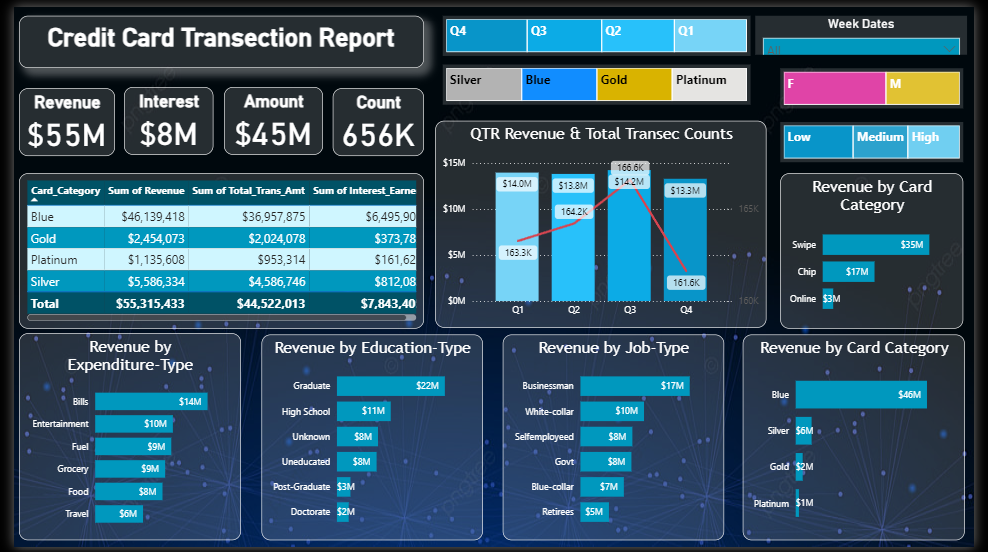

The page's visual inventory and layout, read from the dashboard file:
{"tool":"powerbi","page":{"name":"CC  Transection Report","canvas":[1280,720],"ordinal":0},"visuals":[{"type":"textbox","box":[7.4,12.3,539.9,69.9],"z":0},{"type":"lineStackedColumnComboChart","title":"QTR Revenue & Total Transec Counts","fields":{"Category":["credit_card (3).Qtr"],"Y":["Sum(credit_card (3).Revenue)"],"Y2":["Sum(credit_card.Total_Trans_Count)"]},"box":[561.2,152.3,441.9,275.8],"z":1000},{"type":"clusteredBarChart","title":" Revenue by Expenditure-Type","fields":{"Y":["Sum(credit_card (3).Revenue)"],"Category":["credit_card (3).Exp Type"]},"box":[7.1,435.7,295.7,275.7],"z":2000},{"type":"clusteredBarChart","title":" Revenue by Education-Type","fields":{"Y":["Sum(credit_card (3).Revenue)"],"Category":["customer.Education_Level"]},"box":[329.3,436.4,295,274.4],"z":3000},{"type":"clusteredBarChart","title":" Revenue by Job-Type","fields":{"Y":["Sum(credit_card (3).Revenue)"],"Category":["customer.Customer_Job"]},"box":[651.8,436.4,295,274.4],"z":4000},{"type":"clusteredBarChart","title":" Revenue by Card Category","fields":{"Y":["Sum(credit_card (3).Revenue)"],"Category":["credit_card (3).Card_Category"]},"box":[971.5,436.4,296.4,274.4],"z":5000},{"type":"clusteredBarChart","title":" Revenue by Card Category","fields":{"Y":["Sum(credit_card (3).Revenue)"],"Category":["credit_card (3).Use Chip"]},"box":[1020.9,220.9,244.3,207.2],"z":6000},{"type":"tableEx","fields":{"Values":["credit_card (3).Card_Category","Sum(credit_card (3).Revenue)","Sum(credit_card.Total_Trans_Amt)","Sum(credit_card.Interest_Earned)"]},"box":[7.1,221.4,540,207.1],"z":7000},{"type":"card","title":"Revenue","fields":{"Values":["Sum(credit_card.Revenue)"]},"box":[6.9,108.4,127.6,90.6],"z":8000},{"type":"card","title":"Interest","fields":{"Values":["Sum(credit_card.Interest_Earned)"]},"box":[146.8,107,119.4,90.6],"z":9000},{"type":"card","title":"Amount","fields":{"Values":["Sum(credit_card.Total_Trans_Amt)"]},"box":[279.9,107,131.7,90.6],"z":10000},{"type":"card","title":"Count","fields":{"Values":["Sum(credit_card.Total_Trans_Vol)"]},"box":[425.7,108.6,121.4,90],"z":11000},{"type":"slicer","title":"Week Dates","fields":{"Values":["credit_card.DateColumn"]},"box":[988,12.3,282.7,52.1],"z":12000},{"type":"treemap","fields":{"Group":["credit_card.Qtr"],"Values":["Avg(customer.Client_Num)"]},"box":[570.8,11,410.3,53.5],"z":13000},{"type":"treemap","fields":{"Group":["customer.Gender"],"Values":["CountNonNull(customer.Client_Num)"]},"box":[1020.9,82.3,244.3,53.5],"z":14000},{"type":"treemap","fields":{"Group":["credit_card.Card_Category"],"Values":["Avg(customer.Client_Num)"]},"box":[570.8,76.8,410.3,53.5],"z":15000},{"type":"treemap","fields":{"Values":["Count(customer.Client_Num)"],"Group":["customer.IncomeGroup"]},"box":[1020.9,153.7,244.3,53.5],"z":16000}]}

Visuals, with their boxes in screenshot pixels (x1, y1, x2, y2), scaled from the page's 1280x720 canvas onto the 988x552 screenshot:
textbox: pyautogui.locateOnScreen(6, 9, 422, 63)
"QTR Revenue & Total Transec Counts" lineStackedColumnComboChart: pyautogui.locateOnScreen(433, 117, 774, 328)
" Revenue by Expenditure-Type" clusteredBarChart: pyautogui.locateOnScreen(5, 334, 234, 545)
" Revenue by Education-Type" clusteredBarChart: pyautogui.locateOnScreen(254, 335, 482, 545)
" Revenue by Job-Type" clusteredBarChart: pyautogui.locateOnScreen(503, 335, 731, 545)
" Revenue by Card Category" clusteredBarChart: pyautogui.locateOnScreen(750, 335, 979, 545)
" Revenue by Card Category" clusteredBarChart: pyautogui.locateOnScreen(788, 169, 977, 328)
tableEx - credit_card (3).Card_Category x Sum(credit_card (3).Revenue): pyautogui.locateOnScreen(5, 170, 422, 329)
"Revenue" card: pyautogui.locateOnScreen(5, 83, 104, 153)
"Interest" card: pyautogui.locateOnScreen(113, 82, 205, 151)
"Amount" card: pyautogui.locateOnScreen(216, 82, 318, 151)
"Count" card: pyautogui.locateOnScreen(329, 83, 422, 152)
"Week Dates" slicer: pyautogui.locateOnScreen(763, 9, 981, 49)
treemap - credit_card.Qtr x Avg(customer.Client_Num): pyautogui.locateOnScreen(441, 8, 757, 49)
treemap - customer.Gender x CountNonNull(customer.Client_Num): pyautogui.locateOnScreen(788, 63, 977, 104)
treemap - credit_card.Card_Category x Avg(customer.Client_Num): pyautogui.locateOnScreen(441, 59, 757, 100)
treemap - Count(customer.Client_Num) x customer.IncomeGroup: pyautogui.locateOnScreen(788, 118, 977, 159)
